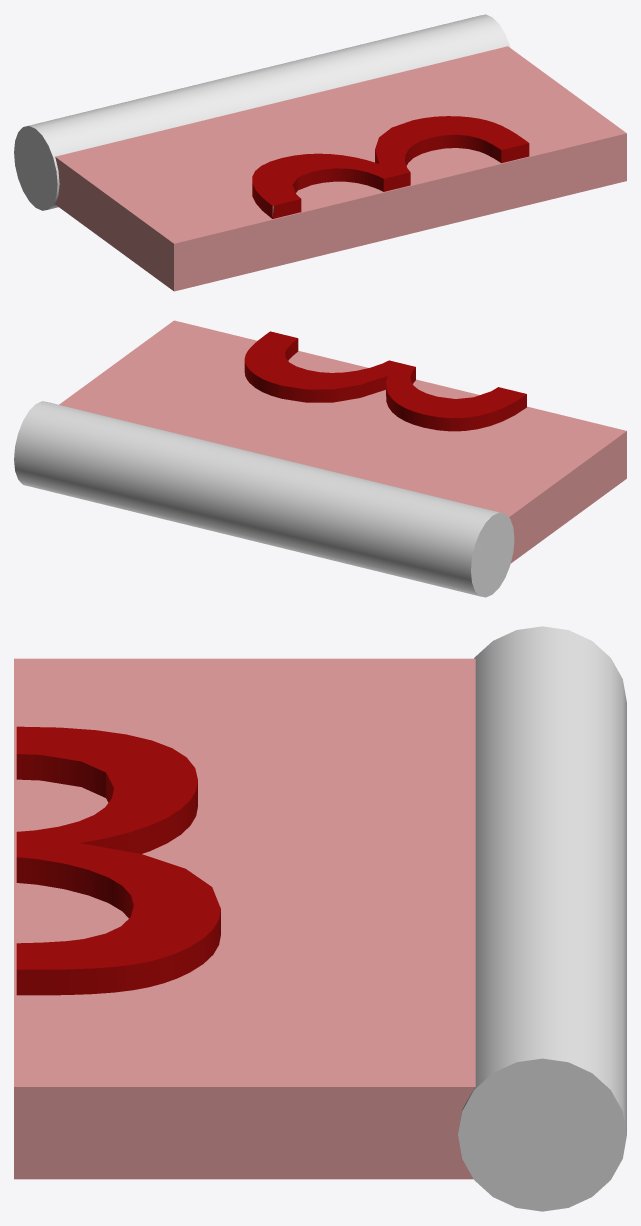
File: B_Right.fbx
3 views of the same model, one above another, from view 1: azimuth 30°, elevation 25°; view 2: azimuth 150°, elevation 25°; view 3: azimuth 270°, elevation 25° (orthographic). The views are drawn at different scales.
Parts seen in each view (by area): view 1: polySurface13; view 2: polySurface13; view 3: polySurface13.
Part boxes in pixels (x1,y1,x2,y2): polySurface13: [14, 14, 626, 291]; polySurface13: [14, 320, 626, 597]; polySurface13: [14, 626, 626, 1211].
Size of the model in its own units: 6.05 by 1 by 3.63.
